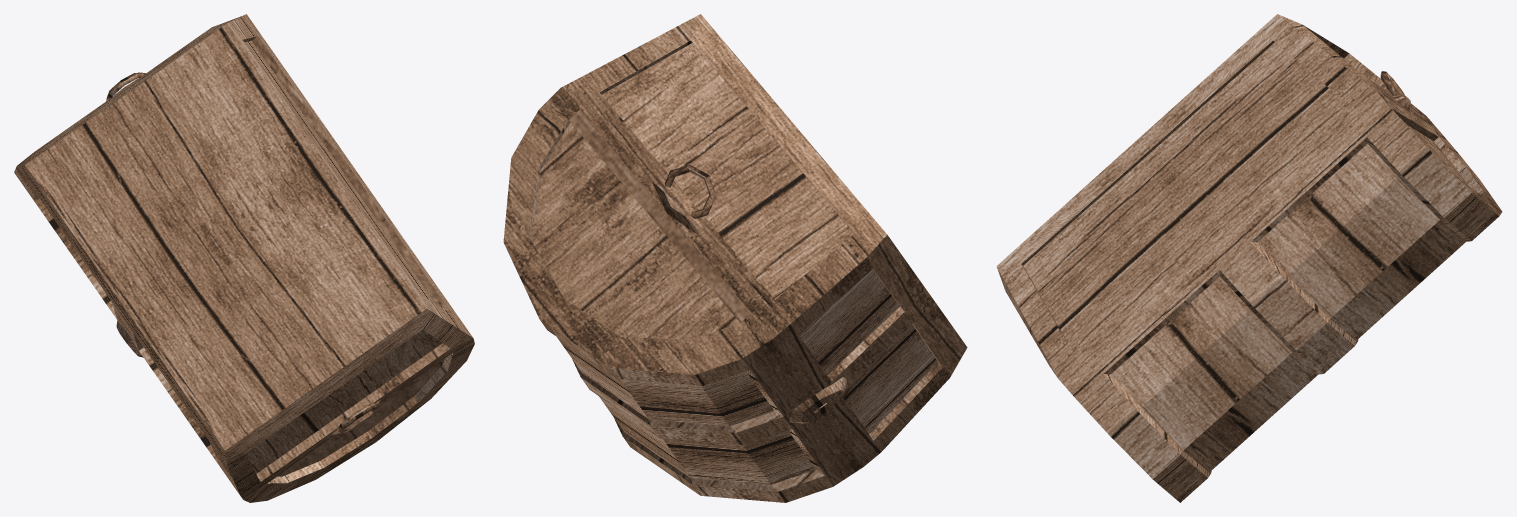
Rendered from cufar.gltf.
The picture shows the model from 3 angles, left to right: view 1: azimuth 30°, elevation 25°; view 2: azimuth 150°, elevation 25°; view 3: azimuth 270°, elevation 25°; orthographic projection. The views are drawn at different scales.
Visible parts, largest first — view 1: treasure_chest_Cylinder.001; view 2: treasure_chest_Cylinder.001; view 3: treasure_chest_Cylinder.001.
Boxes of the visible parts, x1=… form: treasure_chest_Cylinder.001: x1=14, y1=14, x2=474, y2=502; treasure_chest_Cylinder.001: x1=503, y1=14, x2=967, y2=502; treasure_chest_Cylinder.001: x1=996, y1=14, x2=1502, y2=502.
Size of the model in its own units: 3.05 by 3.77 by 3.74.
1 material, 1 textured.
